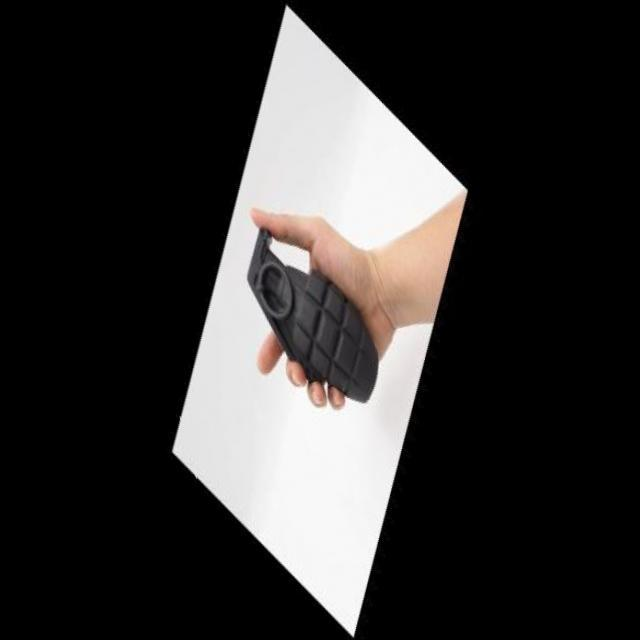grenade: (230, 200, 392, 424)
